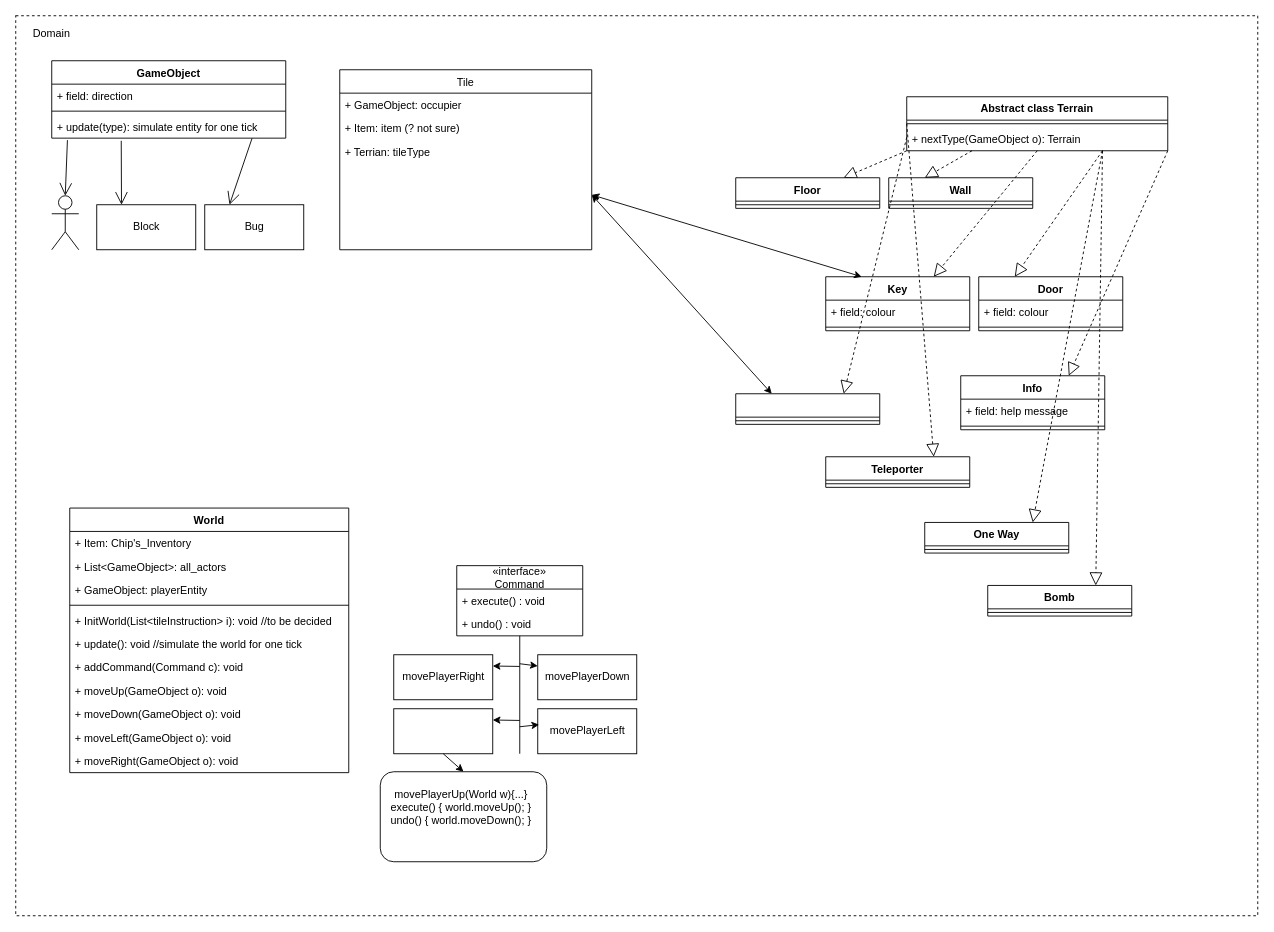
This 1274x932 diagram has some shape labels left out. The centre of each missing label's shape, as x and y in pixels:
"Chip" goes at (65,222).
"movePlayerUp" goes at (443,731).
"Treasure" goes at (807,408).
